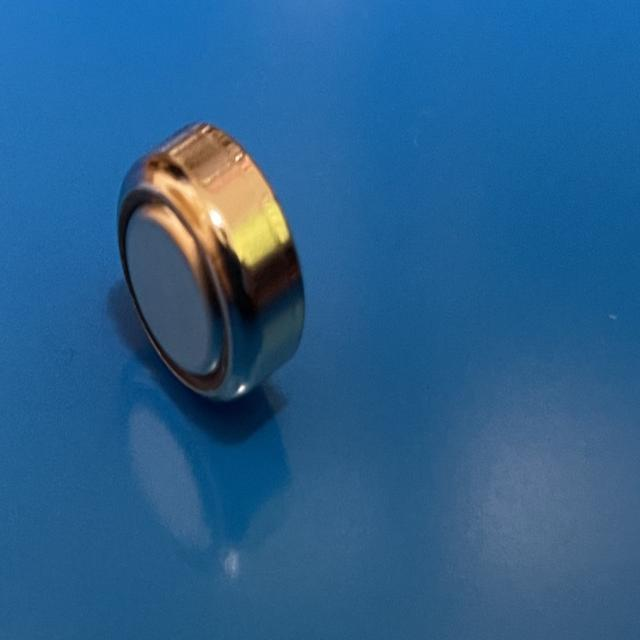COIN: (116, 119, 306, 402)
